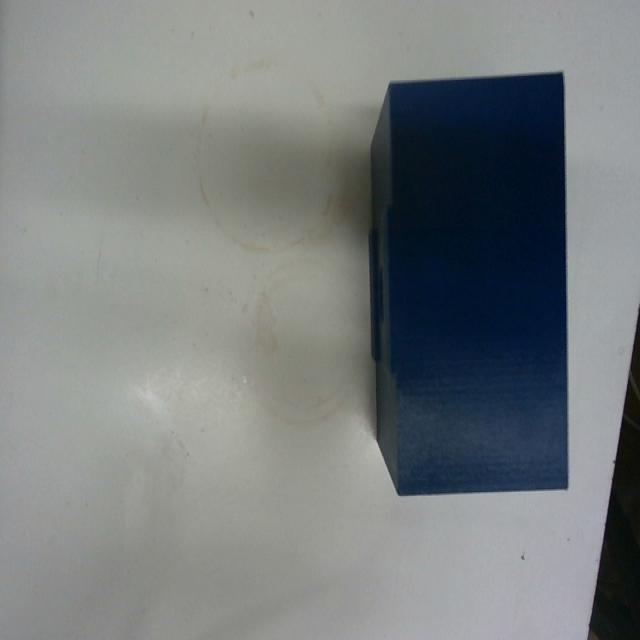Blue Cuboid: (366, 68, 570, 497)
